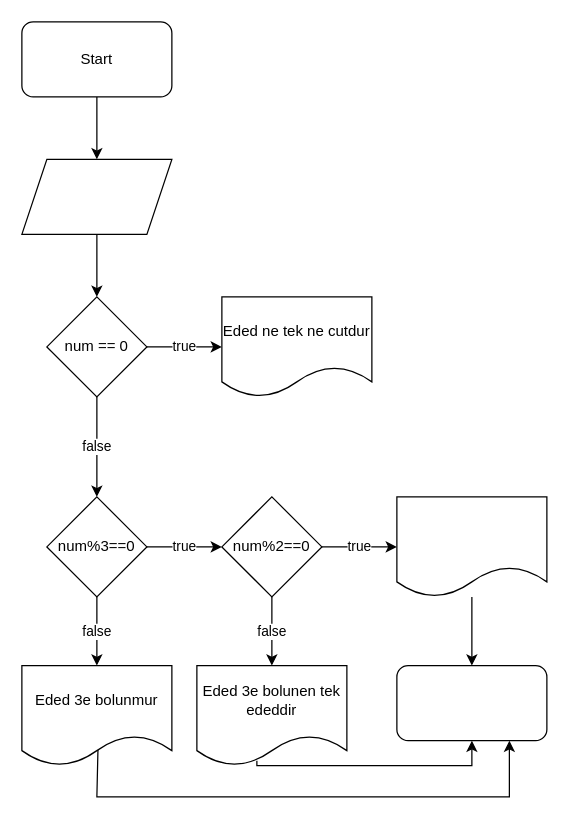
The diagram is 569 pixels wide and 829 high, and some of its shapes have lost their labels. The shapes that lost their labels are listed below. From the top down, each one's box as (x1, y1, x2, y2) in pixels, then its label:
(21, 158, 172, 234): num
(396, 496, 547, 597): Eded 3e bolunen cut ededdir
(396, 664, 547, 741): End
